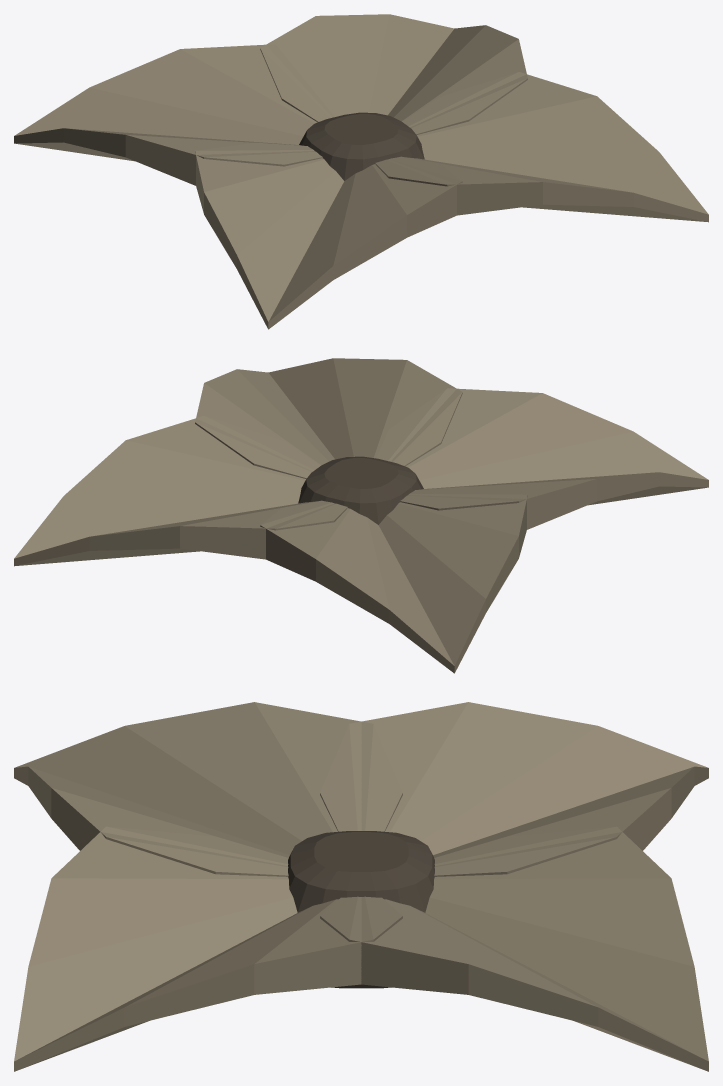
The model's file is toxipotato_young.obj.
The picture shows the model from 3 angles, top to bottom: view 1: azimuth 30°, elevation 25°; view 2: azimuth 150°, elevation 25°; view 3: azimuth 270°, elevation 25°; orthographic projection. The views are drawn at different scales.
Visible parts, largest first — view 1: toxipotato_young_3, toxipotato_young_2, toxipotato_young_1, toxipotato_young_0, toxipotato_young_4; view 2: toxipotato_young_0, toxipotato_young_1, toxipotato_young_2, toxipotato_young_3, toxipotato_young_4; view 3: toxipotato_young_3, toxipotato_young_0, toxipotato_young_2, toxipotato_young_1, toxipotato_young_4.
Part boxes in pixels (bbox=[...]): toxipotato_young_3: bbox=[375, 72, 708, 222]; toxipotato_young_2: bbox=[195, 142, 462, 329]; toxipotato_young_1: bbox=[14, 44, 346, 185]; toxipotato_young_0: bbox=[260, 14, 527, 134]; toxipotato_young_4: bbox=[299, 112, 424, 180]; toxipotato_young_0: bbox=[14, 416, 347, 566]; toxipotato_young_1: bbox=[260, 486, 527, 673]; toxipotato_young_2: bbox=[376, 388, 708, 529]; toxipotato_young_3: bbox=[195, 358, 462, 478]; toxipotato_young_4: bbox=[298, 456, 423, 524]; toxipotato_young_3: bbox=[14, 826, 402, 1071]; toxipotato_young_0: bbox=[320, 826, 708, 1071]; toxipotato_young_2: bbox=[14, 702, 402, 876]; toxipotato_young_1: bbox=[320, 702, 708, 876]; toxipotato_young_4: bbox=[288, 831, 434, 988].
Size of the model in its own units: 0.3676 by 0.0719 by 0.3676.
